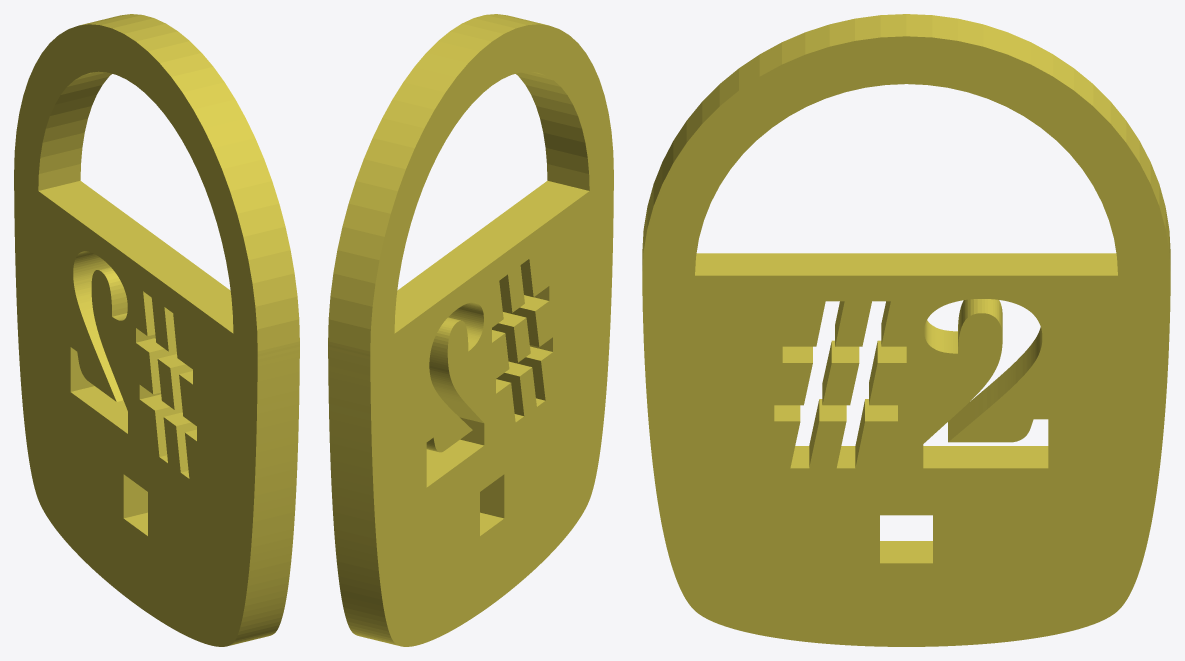
Rendered from Lock_Yellow.glb.
The picture shows the model from 3 angles, left to right: view 1: azimuth 30°, elevation 25°; view 2: azimuth 150°, elevation 25°; view 3: azimuth 270°, elevation 25°; orthographic projection. The views are drawn at different scales.
Visible parts, largest first — view 1: Mesh_Mesh_head_geo.001_lambert2SG.001; view 2: Mesh_Mesh_head_geo.001_lambert2SG.001; view 3: Mesh_Mesh_head_geo.001_lambert2SG.001.
Boxes of the visible parts, x1,y1,x2,y2 form: Mesh_Mesh_head_geo.001_lambert2SG.001: [14, 14, 299, 646]; Mesh_Mesh_head_geo.001_lambert2SG.001: [328, 14, 613, 646]; Mesh_Mesh_head_geo.001_lambert2SG.001: [642, 14, 1170, 646].
Size of the model in its own units: 0.1 by 1.27 by 1.
